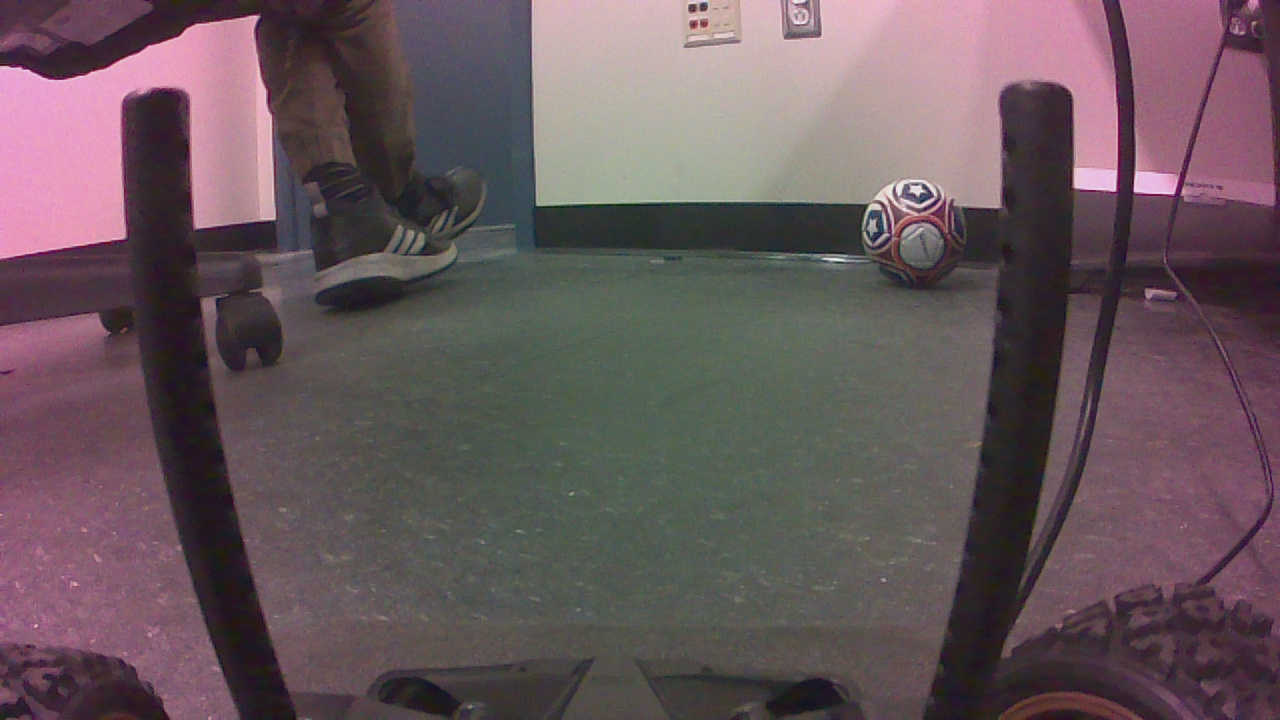ball: (870, 182, 972, 289)
